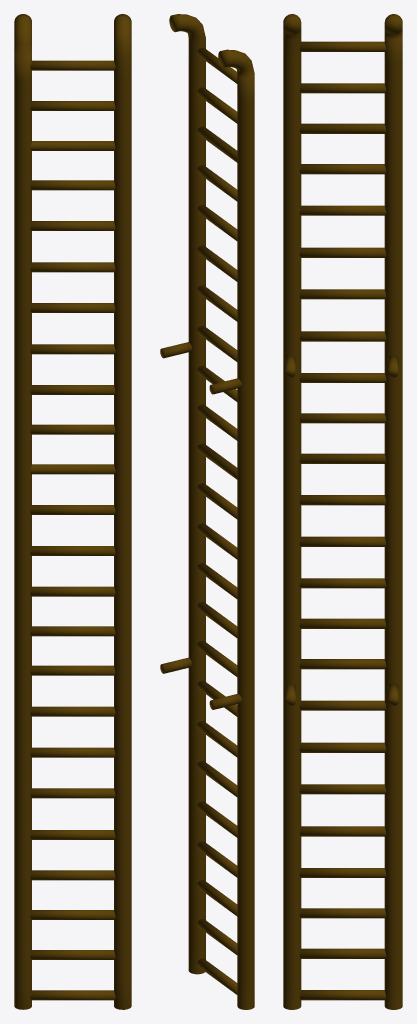
The model's file is Ladder.fbx.
3 views of the same model, side by side, from view 1: azimuth 90°, elevation 25°; view 2: azimuth 210°, elevation 25°; view 3: azimuth 270°, elevation 25° (orthographic). The views are drawn at different scales.
Visible parts, largest first — view 1: Cylinder; view 2: Cylinder; view 3: Cylinder.
Part boxes in pixels (<box>): Cylinder: <box>14,14,131,1009</box>; Cylinder: <box>160,14,254,1009</box>; Cylinder: <box>283,14,402,1009</box>.
Size of the model in its own units: 1.6 by 35.52 by 3.85.
